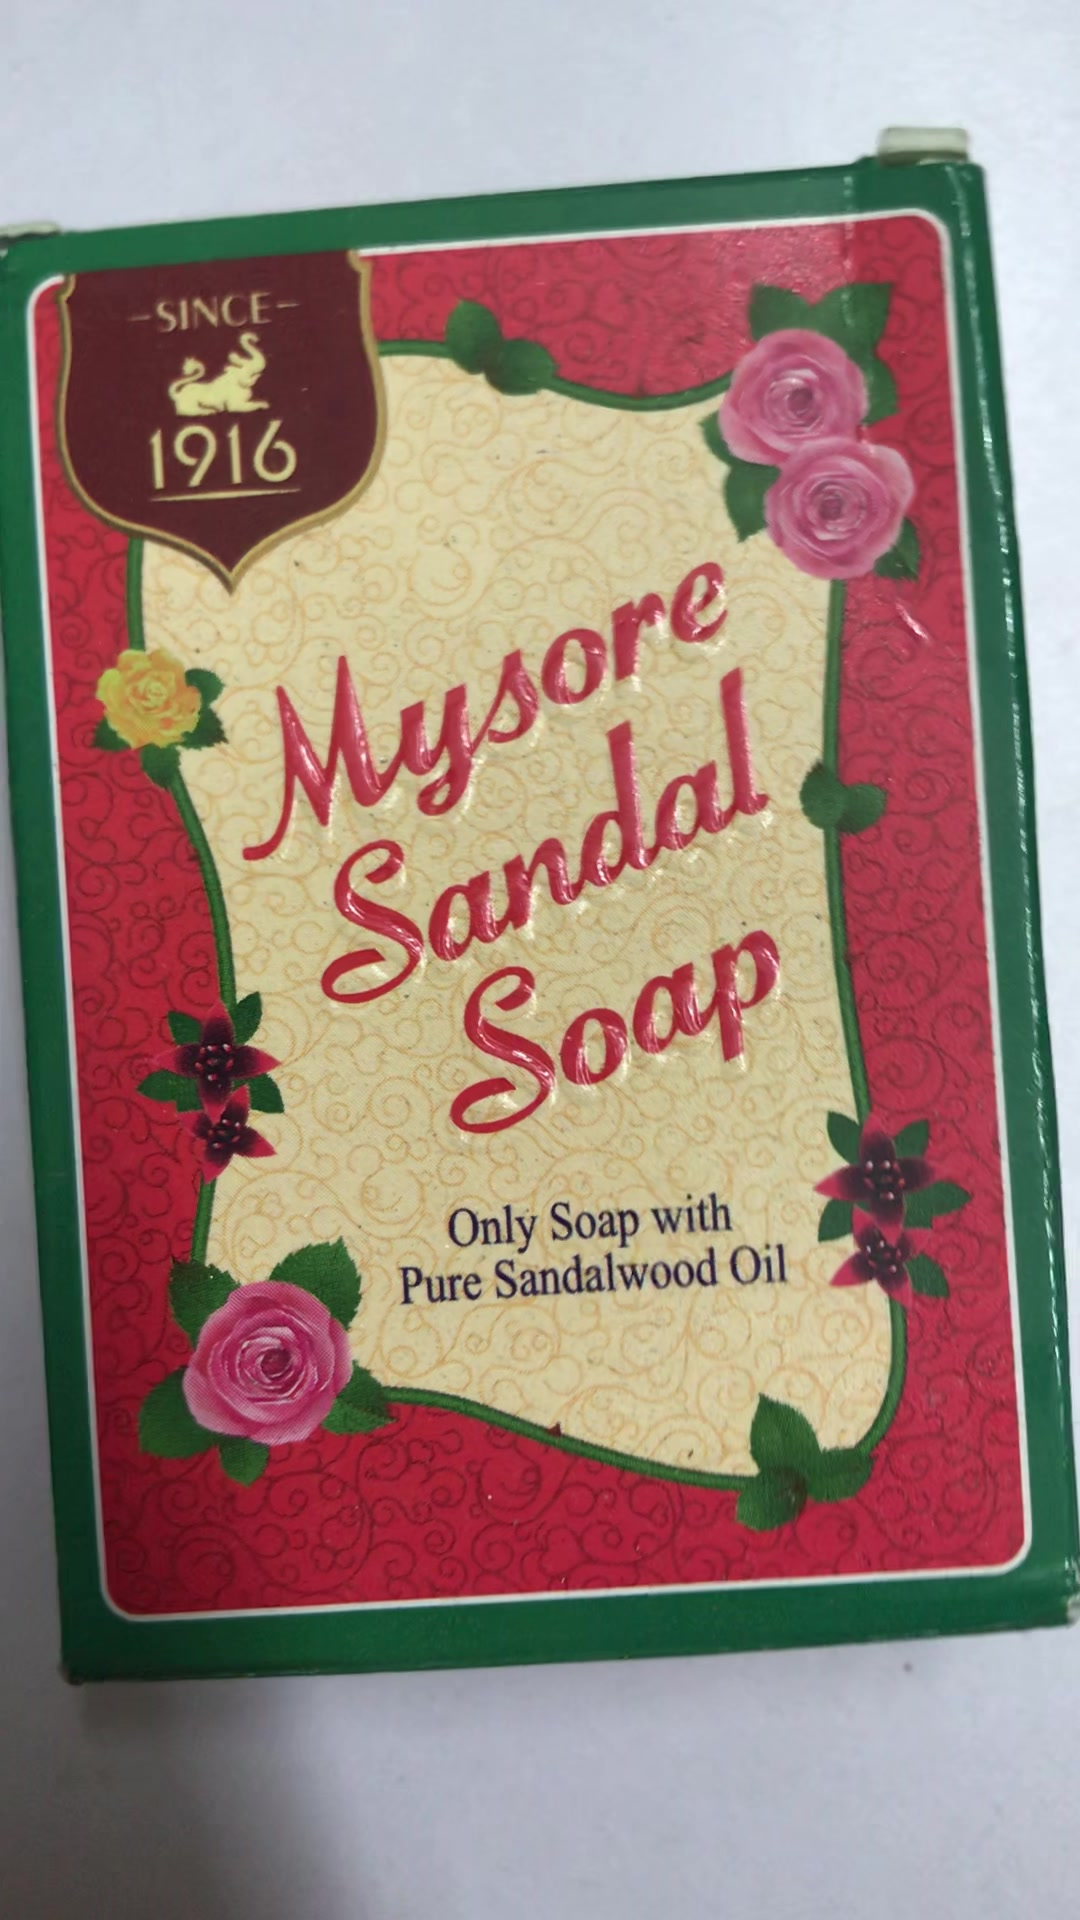mysore sandal soap: (1, 165, 1076, 1683)
